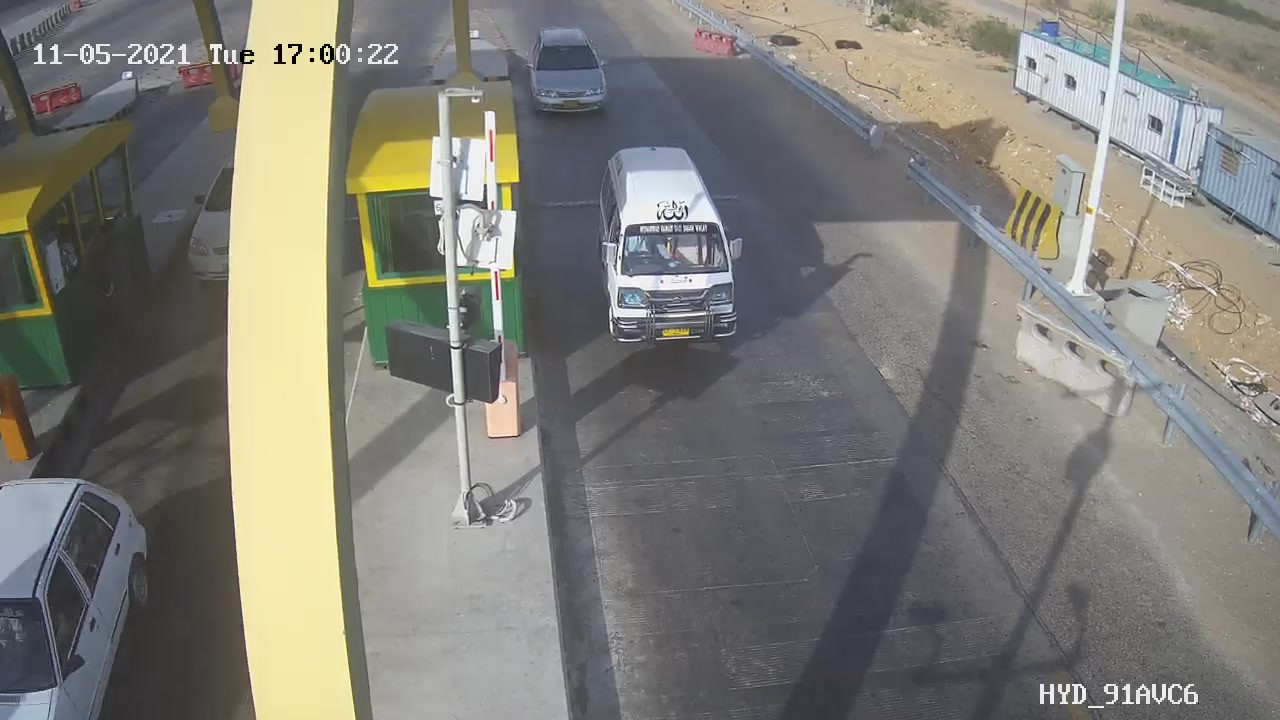F1: (577, 134, 765, 370), (512, 18, 625, 130)
